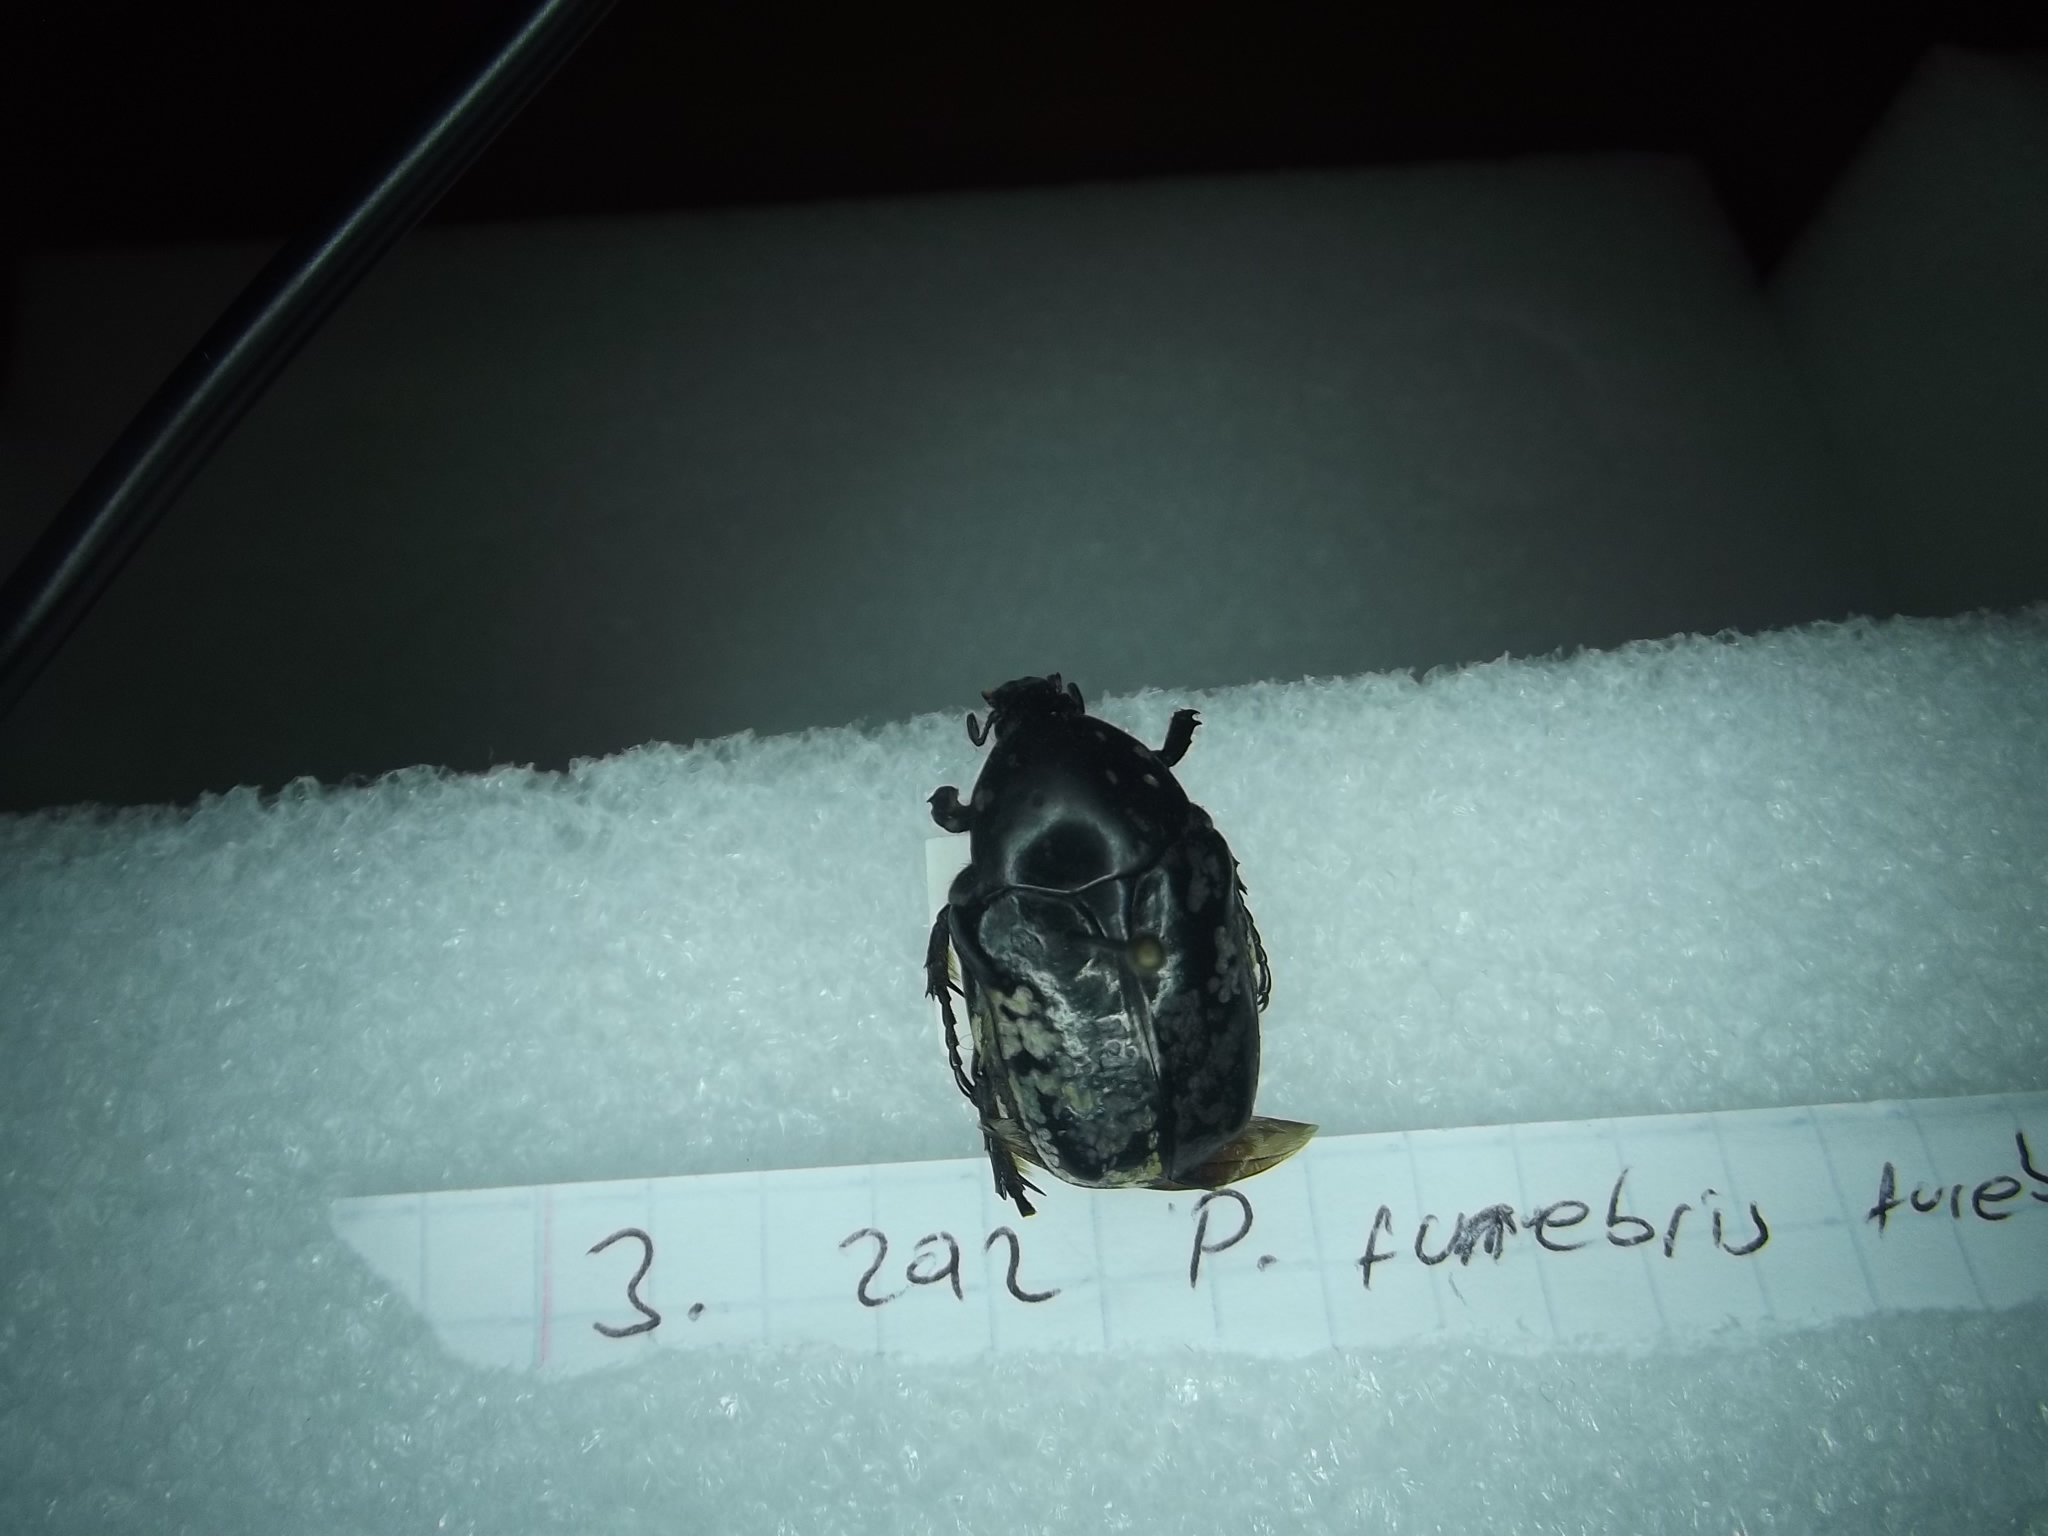Protaetia_funebris: (914, 662, 1288, 1213)
